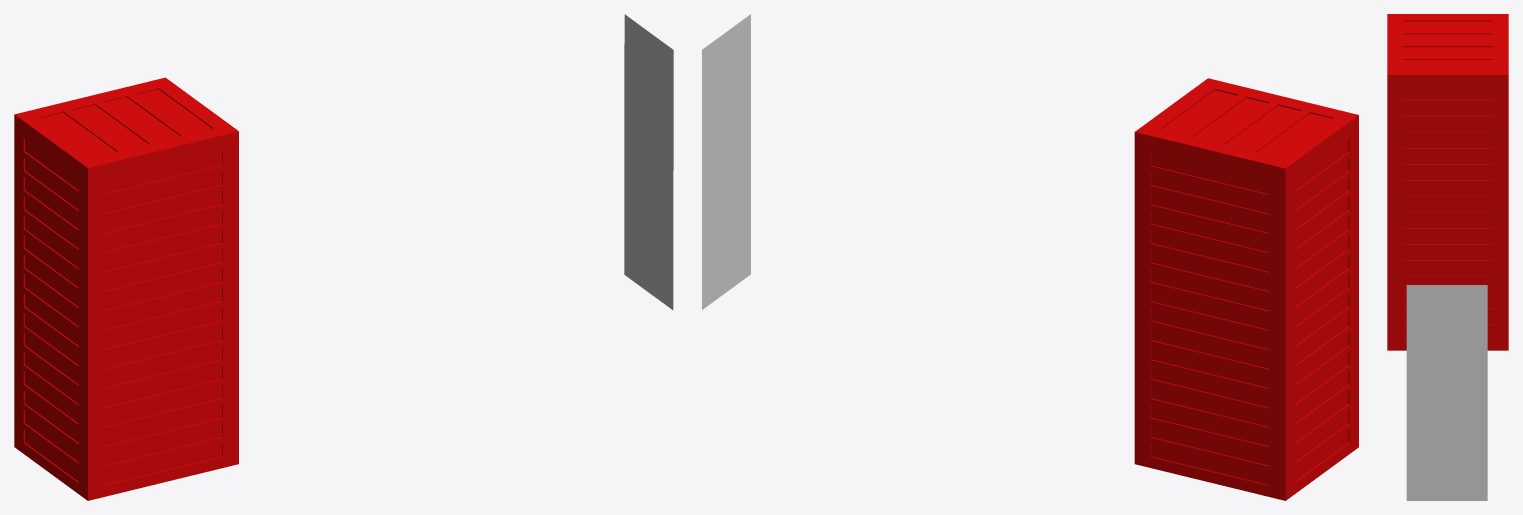
The model's file is container.dae.
The picture shows the model from 3 angles, left to right: view 1: azimuth 30°, elevation 25°; view 2: azimuth 150°, elevation 25°; view 3: azimuth 270°, elevation 25°; orthographic projection. The views are drawn at different scales.
Visible parts, largest first — view 1: container, shipping_decal; view 2: container, shipping_decal; view 3: container, shipping_decal.
Boxes of the visible parts, bbox=[...] form: container: bbox=[14, 77, 238, 500]; shipping_decal: bbox=[624, 14, 673, 309]; container: bbox=[1134, 78, 1358, 500]; shipping_decal: bbox=[702, 14, 750, 309]; container: bbox=[1387, 14, 1508, 350]; shipping_decal: bbox=[1406, 285, 1487, 500].
Size of the model in its own units: 11.45 by 2.44 by 6.1.
